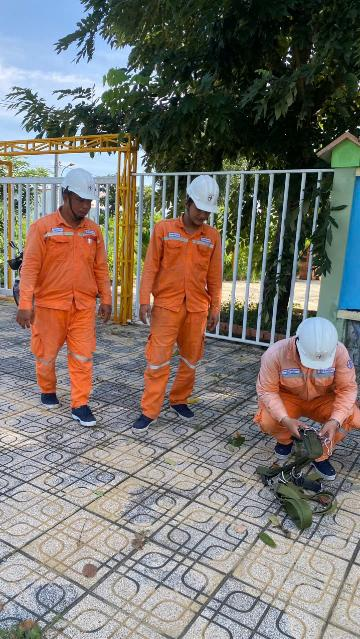harness: (295, 423, 324, 532)
helmet: (296, 318, 348, 377), (60, 161, 110, 217), (188, 175, 229, 220)
shoes: (309, 453, 344, 485), (166, 395, 199, 425), (36, 384, 65, 416), (74, 399, 103, 430), (129, 411, 156, 436), (273, 436, 297, 459)
